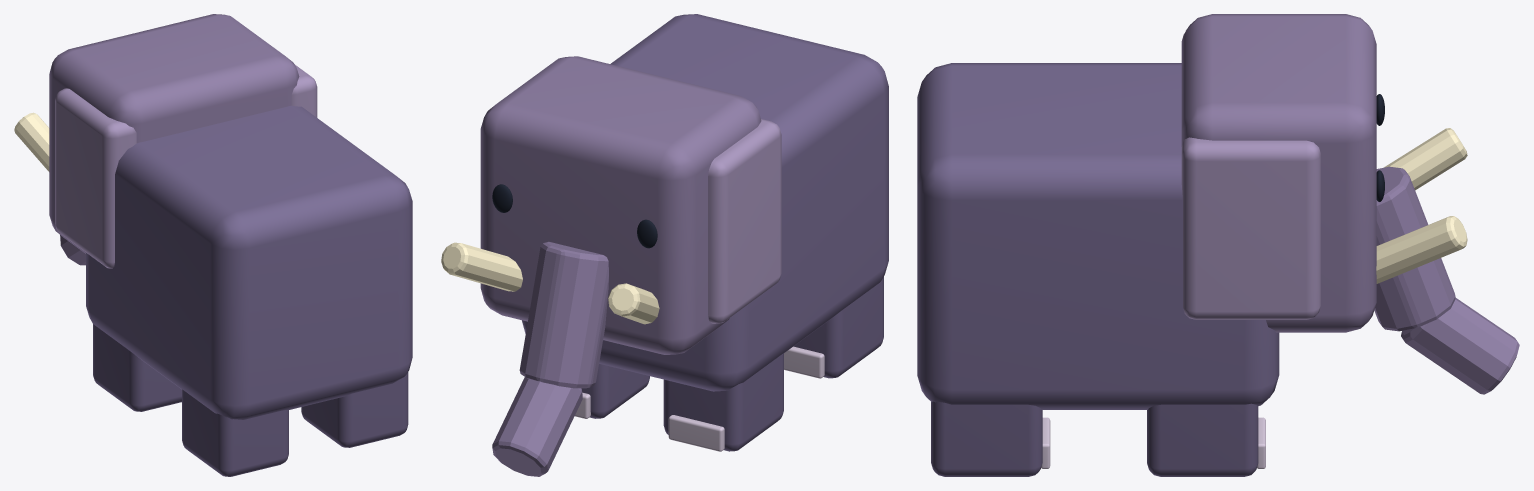
The model's file is mammoth.glb.
The picture shows the model from 3 angles, left to right: view 1: azimuth 30°, elevation 25°; view 2: azimuth 150°, elevation 25°; view 3: azimuth 270°, elevation 25°; orthographic projection. The views are drawn at different scales.
Parts seen in each view (by area): view 1: Body, Head, Ear, Leg.001, Leg.003, Leg, Tusk, Ear.001; view 2: Head, Body, Ear, Trunk upper, Leg, Trunk tip, Leg.001, Tusk.001, Leg.002, Tusk, Toenails, Toenails.001 (+2 smaller); view 3: Body, Head, Ear.001, Leg.003, Leg.002, Trunk upper, Trunk tip, Tusk.001, Tusk.
Boxes of the visible parts, box(x1,y1,x2,y2) form: Body: box(86, 105, 412, 419); Head: box(49, 14, 299, 253); Ear: box(55, 88, 136, 268); Leg.001: box(182, 389, 288, 476); Leg.003: box(301, 372, 408, 447); Leg: box(93, 324, 181, 411); Tusk: box(14, 112, 49, 171); Ear.001: box(291, 65, 317, 117); Head: box(480, 56, 761, 354); Body: box(522, 14, 888, 391); Ear: box(708, 119, 781, 323); Trunk upper: box(519, 241, 608, 388); Leg: box(663, 353, 783, 451); Trunk tip: box(492, 377, 582, 476); Leg.001: box(793, 276, 883, 378); Tusk.001: box(441, 242, 522, 291); Leg.002: box(581, 364, 649, 418); Tusk: box(608, 283, 659, 324); Toenails: box(668, 415, 724, 451); Toenails.001: box(784, 346, 824, 378); Body: box(917, 63, 1279, 409); Head: box(1181, 14, 1376, 332); Ear.001: box(1181, 137, 1320, 319); Leg.003: box(931, 401, 1042, 476); Leg.002: box(1147, 403, 1258, 476); Trunk upper: box(1374, 166, 1455, 331); Trunk tip: box(1401, 298, 1519, 394); Tusk.001: box(1376, 216, 1467, 283); Tusk: box(1384, 128, 1467, 190).
Bounding box in the file's own units: 2.15 × 2.9 × 4.33.
